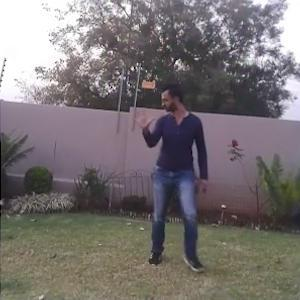follow_hand: (129, 102, 156, 129)
